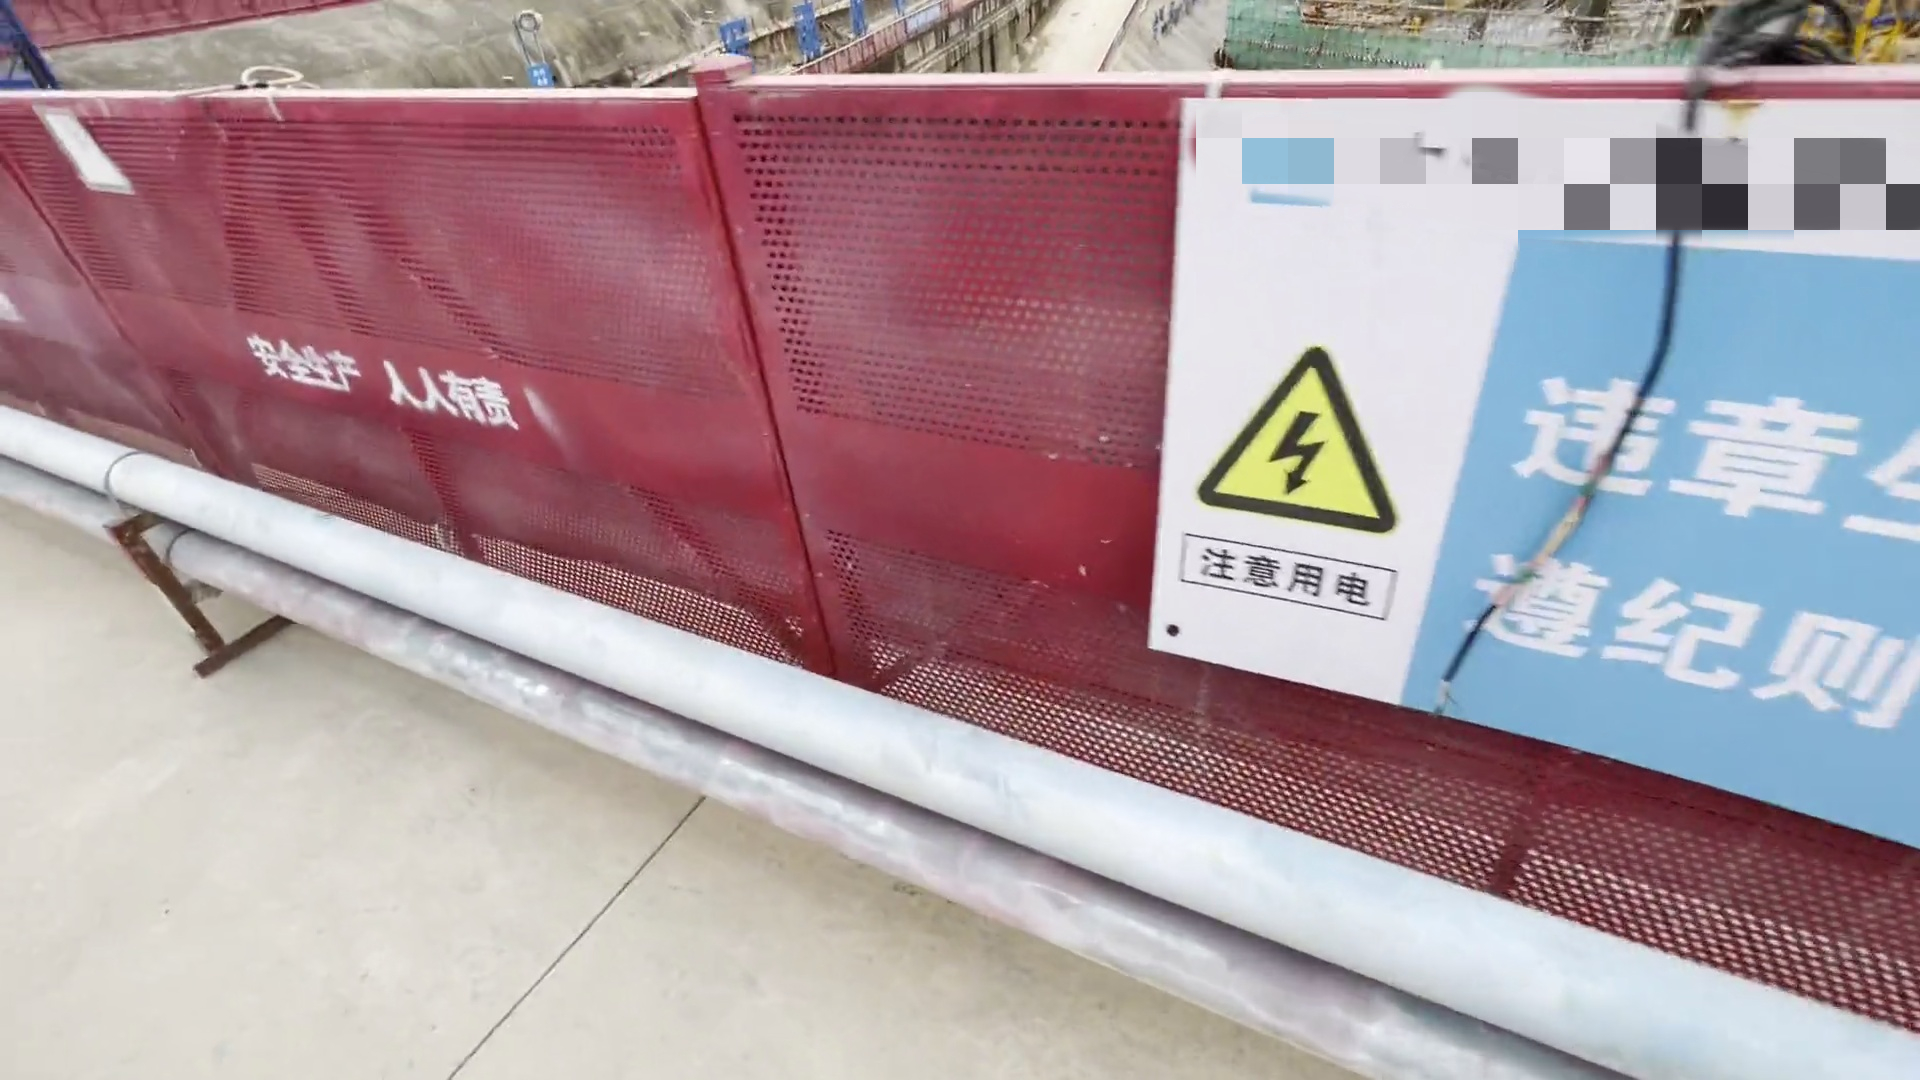fence: (1, 69, 1905, 1010)
slogan: (1168, 95, 1920, 811)
